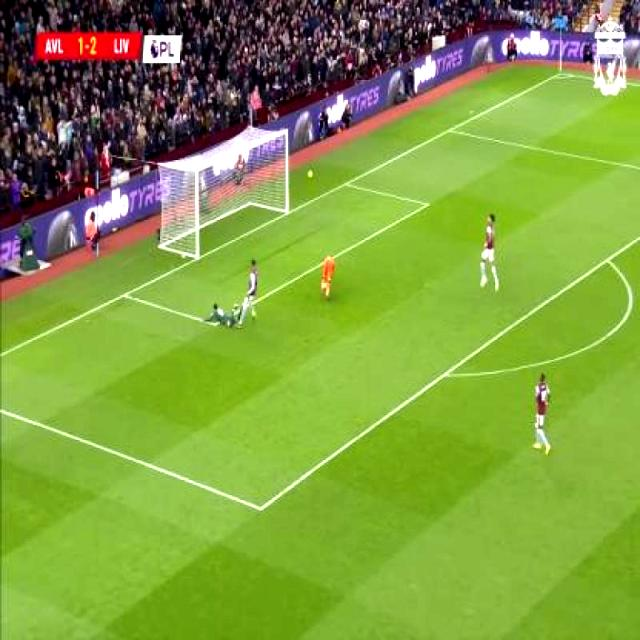bigarea_bottom_inner: (251, 496, 271, 522)
bigarea_top_outter: (446, 123, 457, 137)
bottom_arc_area_intersection: (442, 366, 452, 382)
corner: (556, 71, 572, 79)
smallarea_bottom_outter: (120, 288, 130, 302)
smallarea_top_inner: (421, 198, 434, 214)
smallarea_top_outter: (342, 179, 352, 189)
top_arc_area_intersection: (602, 254, 616, 268)
